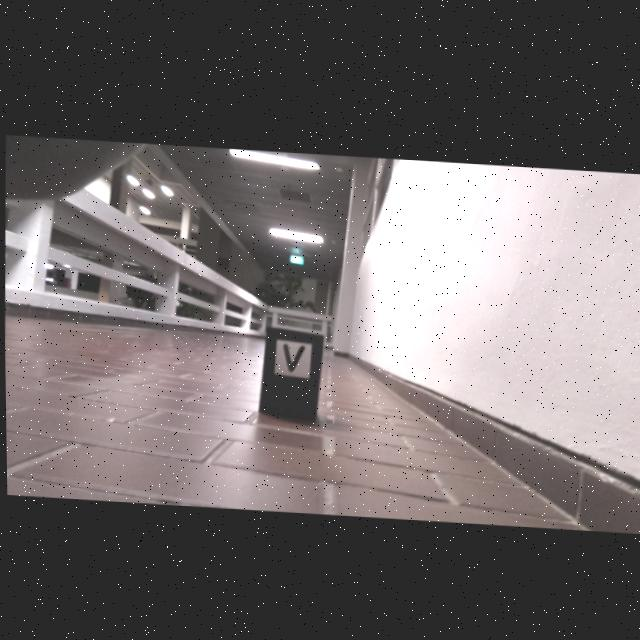V: (282, 340, 304, 369)
